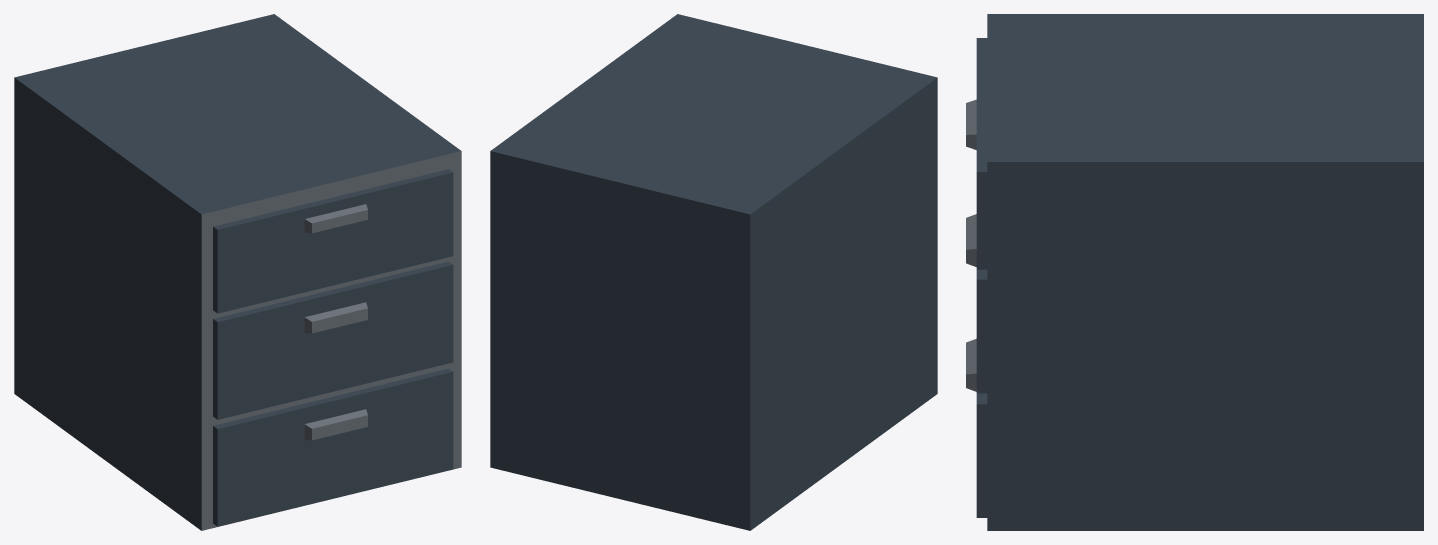
Rendered from File_Cabinet_02.FBX.
The picture shows the model from 3 angles, left to right: view 1: azimuth 30°, elevation 25°; view 2: azimuth 150°, elevation 25°; view 3: azimuth 270°, elevation 25°; orthographic projection. The views are drawn at different scales.
Parts seen in each view (by area): view 1: File_Cabinet_02; view 2: File_Cabinet_02; view 3: File_Cabinet_02.
Boxes of the visible parts, x1=… form: File_Cabinet_02: x1=14, y1=14, x2=461, y2=530; File_Cabinet_02: x1=490, y1=14, x2=937, y2=530; File_Cabinet_02: x1=966, y1=14, x2=1423, y2=530.
Bounding box in the file's own units: 65.06 × 75.68 × 85.1.
